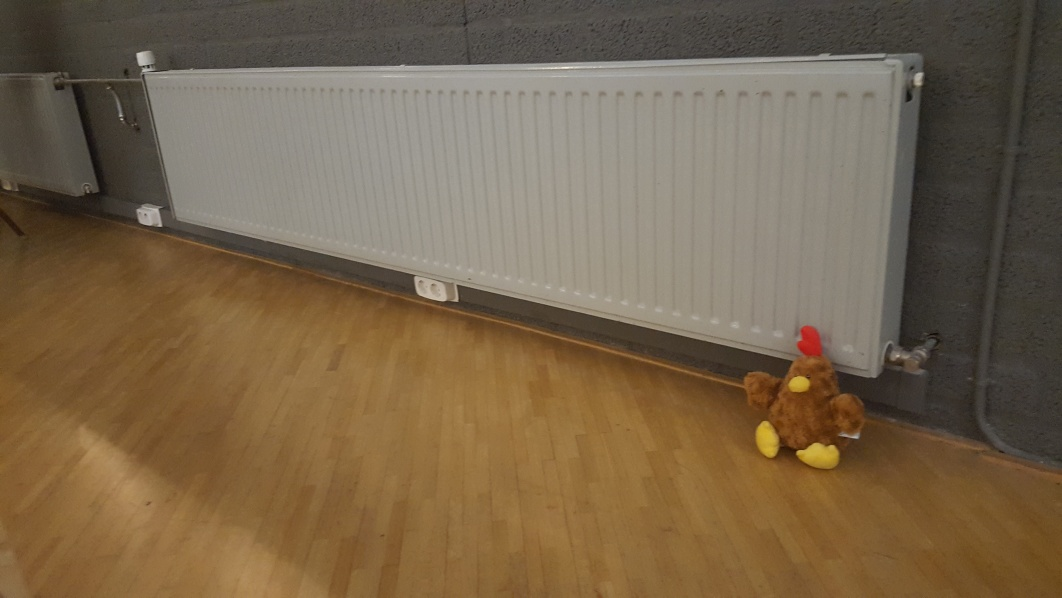chicken: (742, 326, 867, 474)
